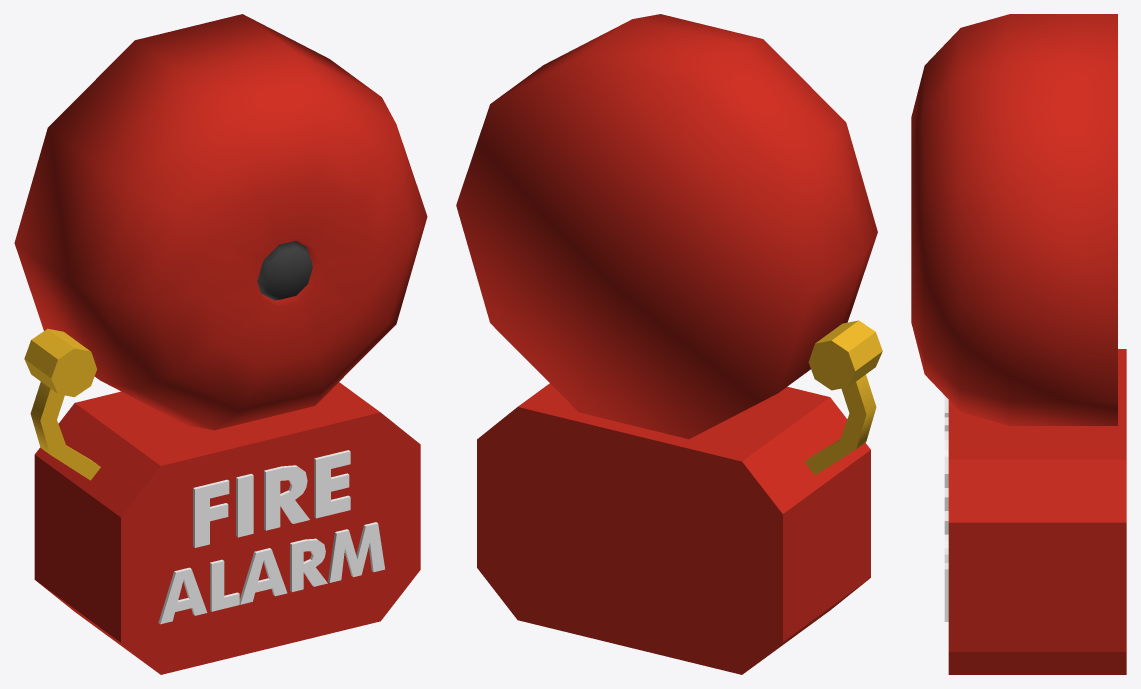
The model's file is firealarm.glb.
The picture shows the model from 3 angles, left to right: view 1: azimuth 30°, elevation 25°; view 2: azimuth 150°, elevation 25°; view 3: azimuth 270°, elevation 25°; orthographic projection. The views are drawn at different scales.
Visible parts, largest first — view 1: mesh_firealarm_01; view 2: mesh_firealarm_01; view 3: mesh_firealarm_01.
Part boxes in pixels (box(x1,y1,x2,y2)): mesh_firealarm_01: box(14, 14, 427, 674); mesh_firealarm_01: box(456, 14, 882, 674); mesh_firealarm_01: box(911, 14, 1126, 674).
Size of the model in its own units: 0.3432 by 0.501 by 0.1688.
1 material, 1 textured.
